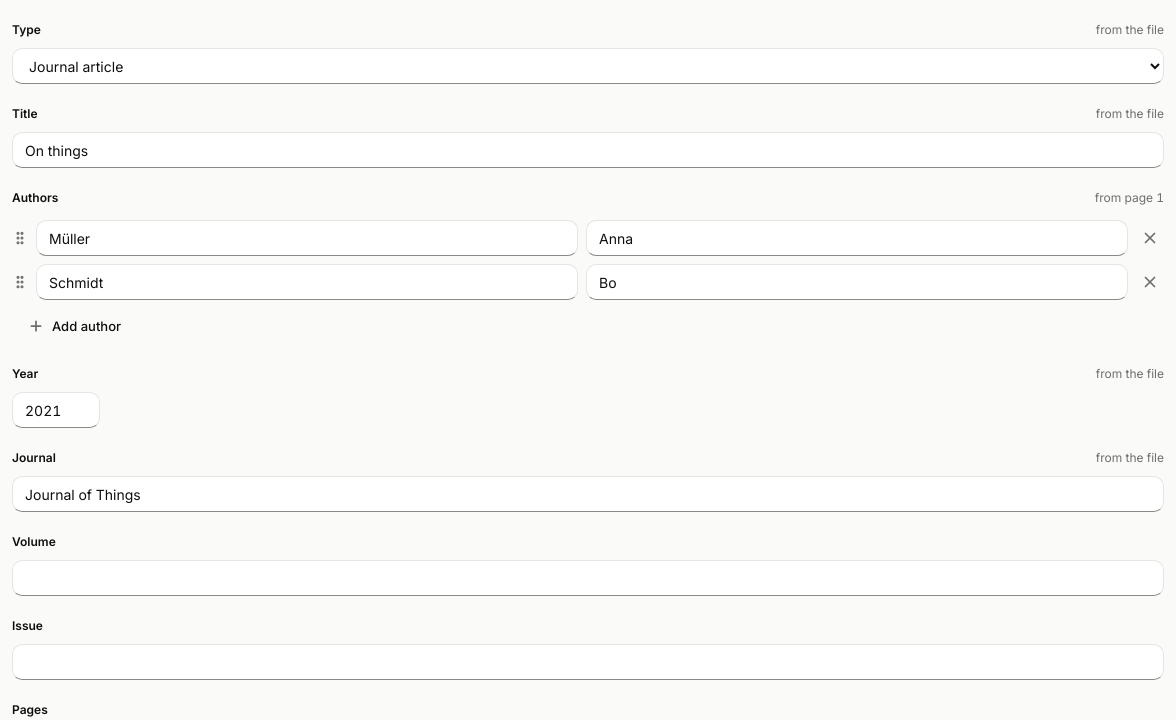
ReferenceForm › switches the visible fields with the type and keeps the hidden value until the record is made
Type "7" into the field labelled "Volume" at [588, 578], box 12,560 -> 1164,596
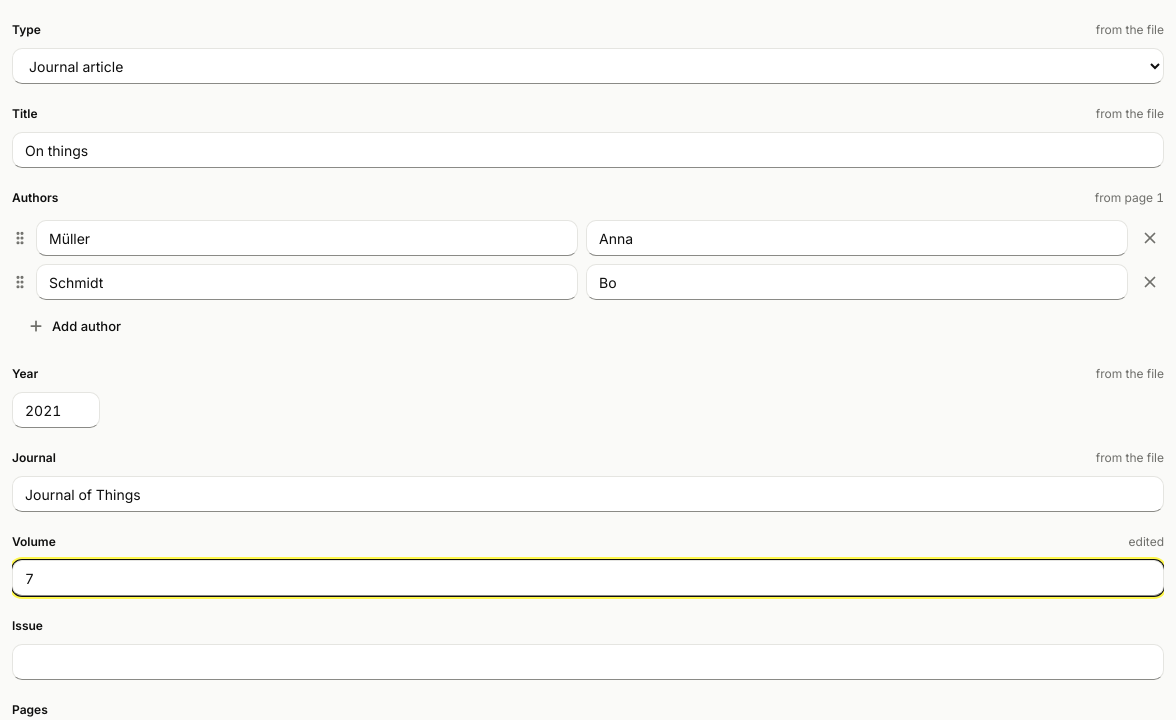
Select "Book" in the dropdown labelled "Type" at [588, 66], box 12,48 -> 1164,84
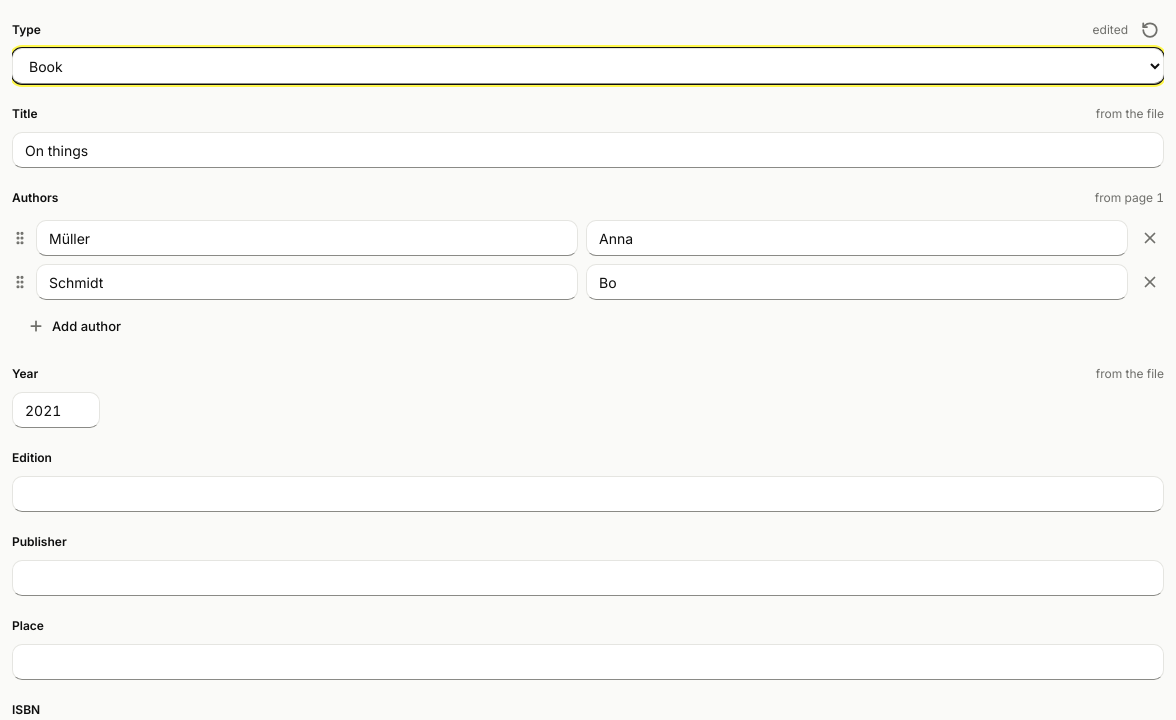
Check: the field labelled "Edition" is shown, box 12,476 -> 1164,512
Check: the label labelled "Volume" is gone
Select "Journal article" in the dropdown labelled "Type" at [588, 66], box 12,48 -> 1164,84
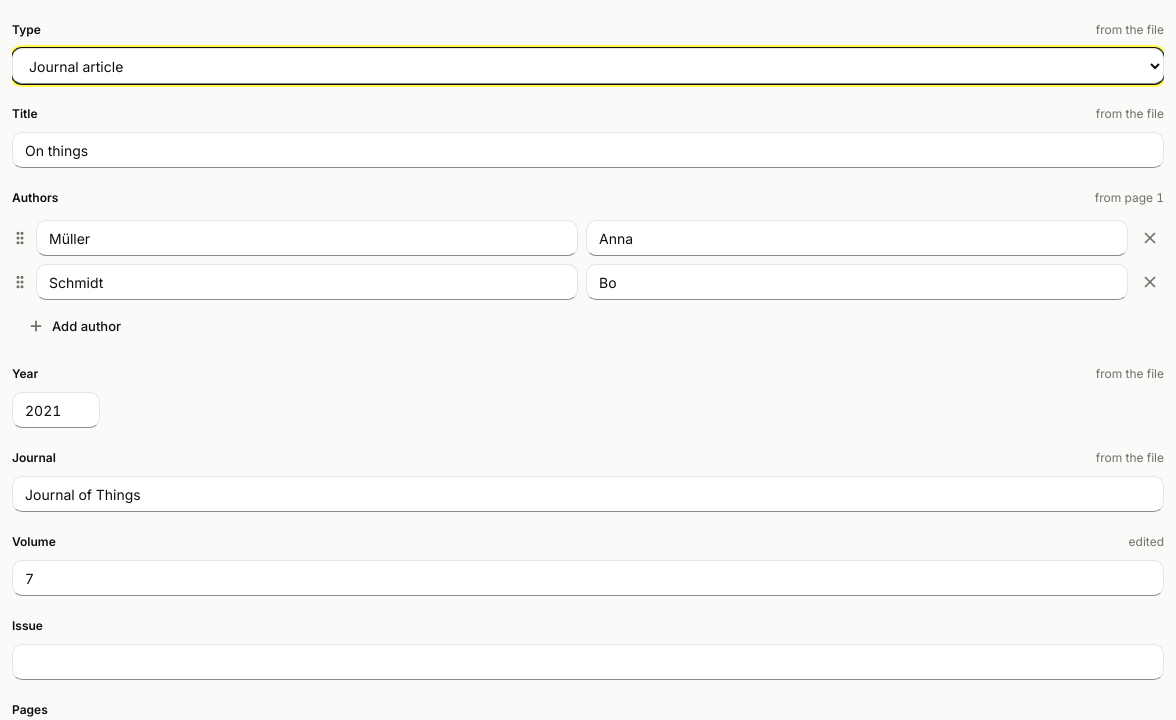
Check: the field labelled "Volume" holds "7", box 12,560 -> 1164,596
